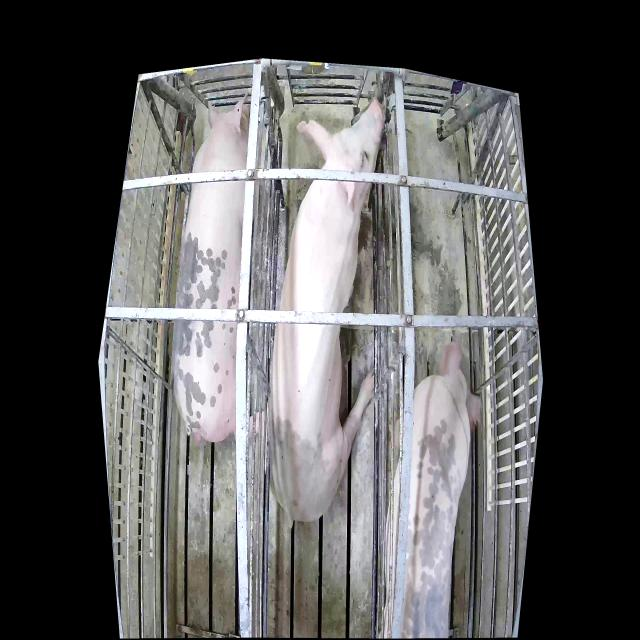pig: (269, 97, 386, 520), (378, 343, 481, 637), (174, 91, 250, 441)
